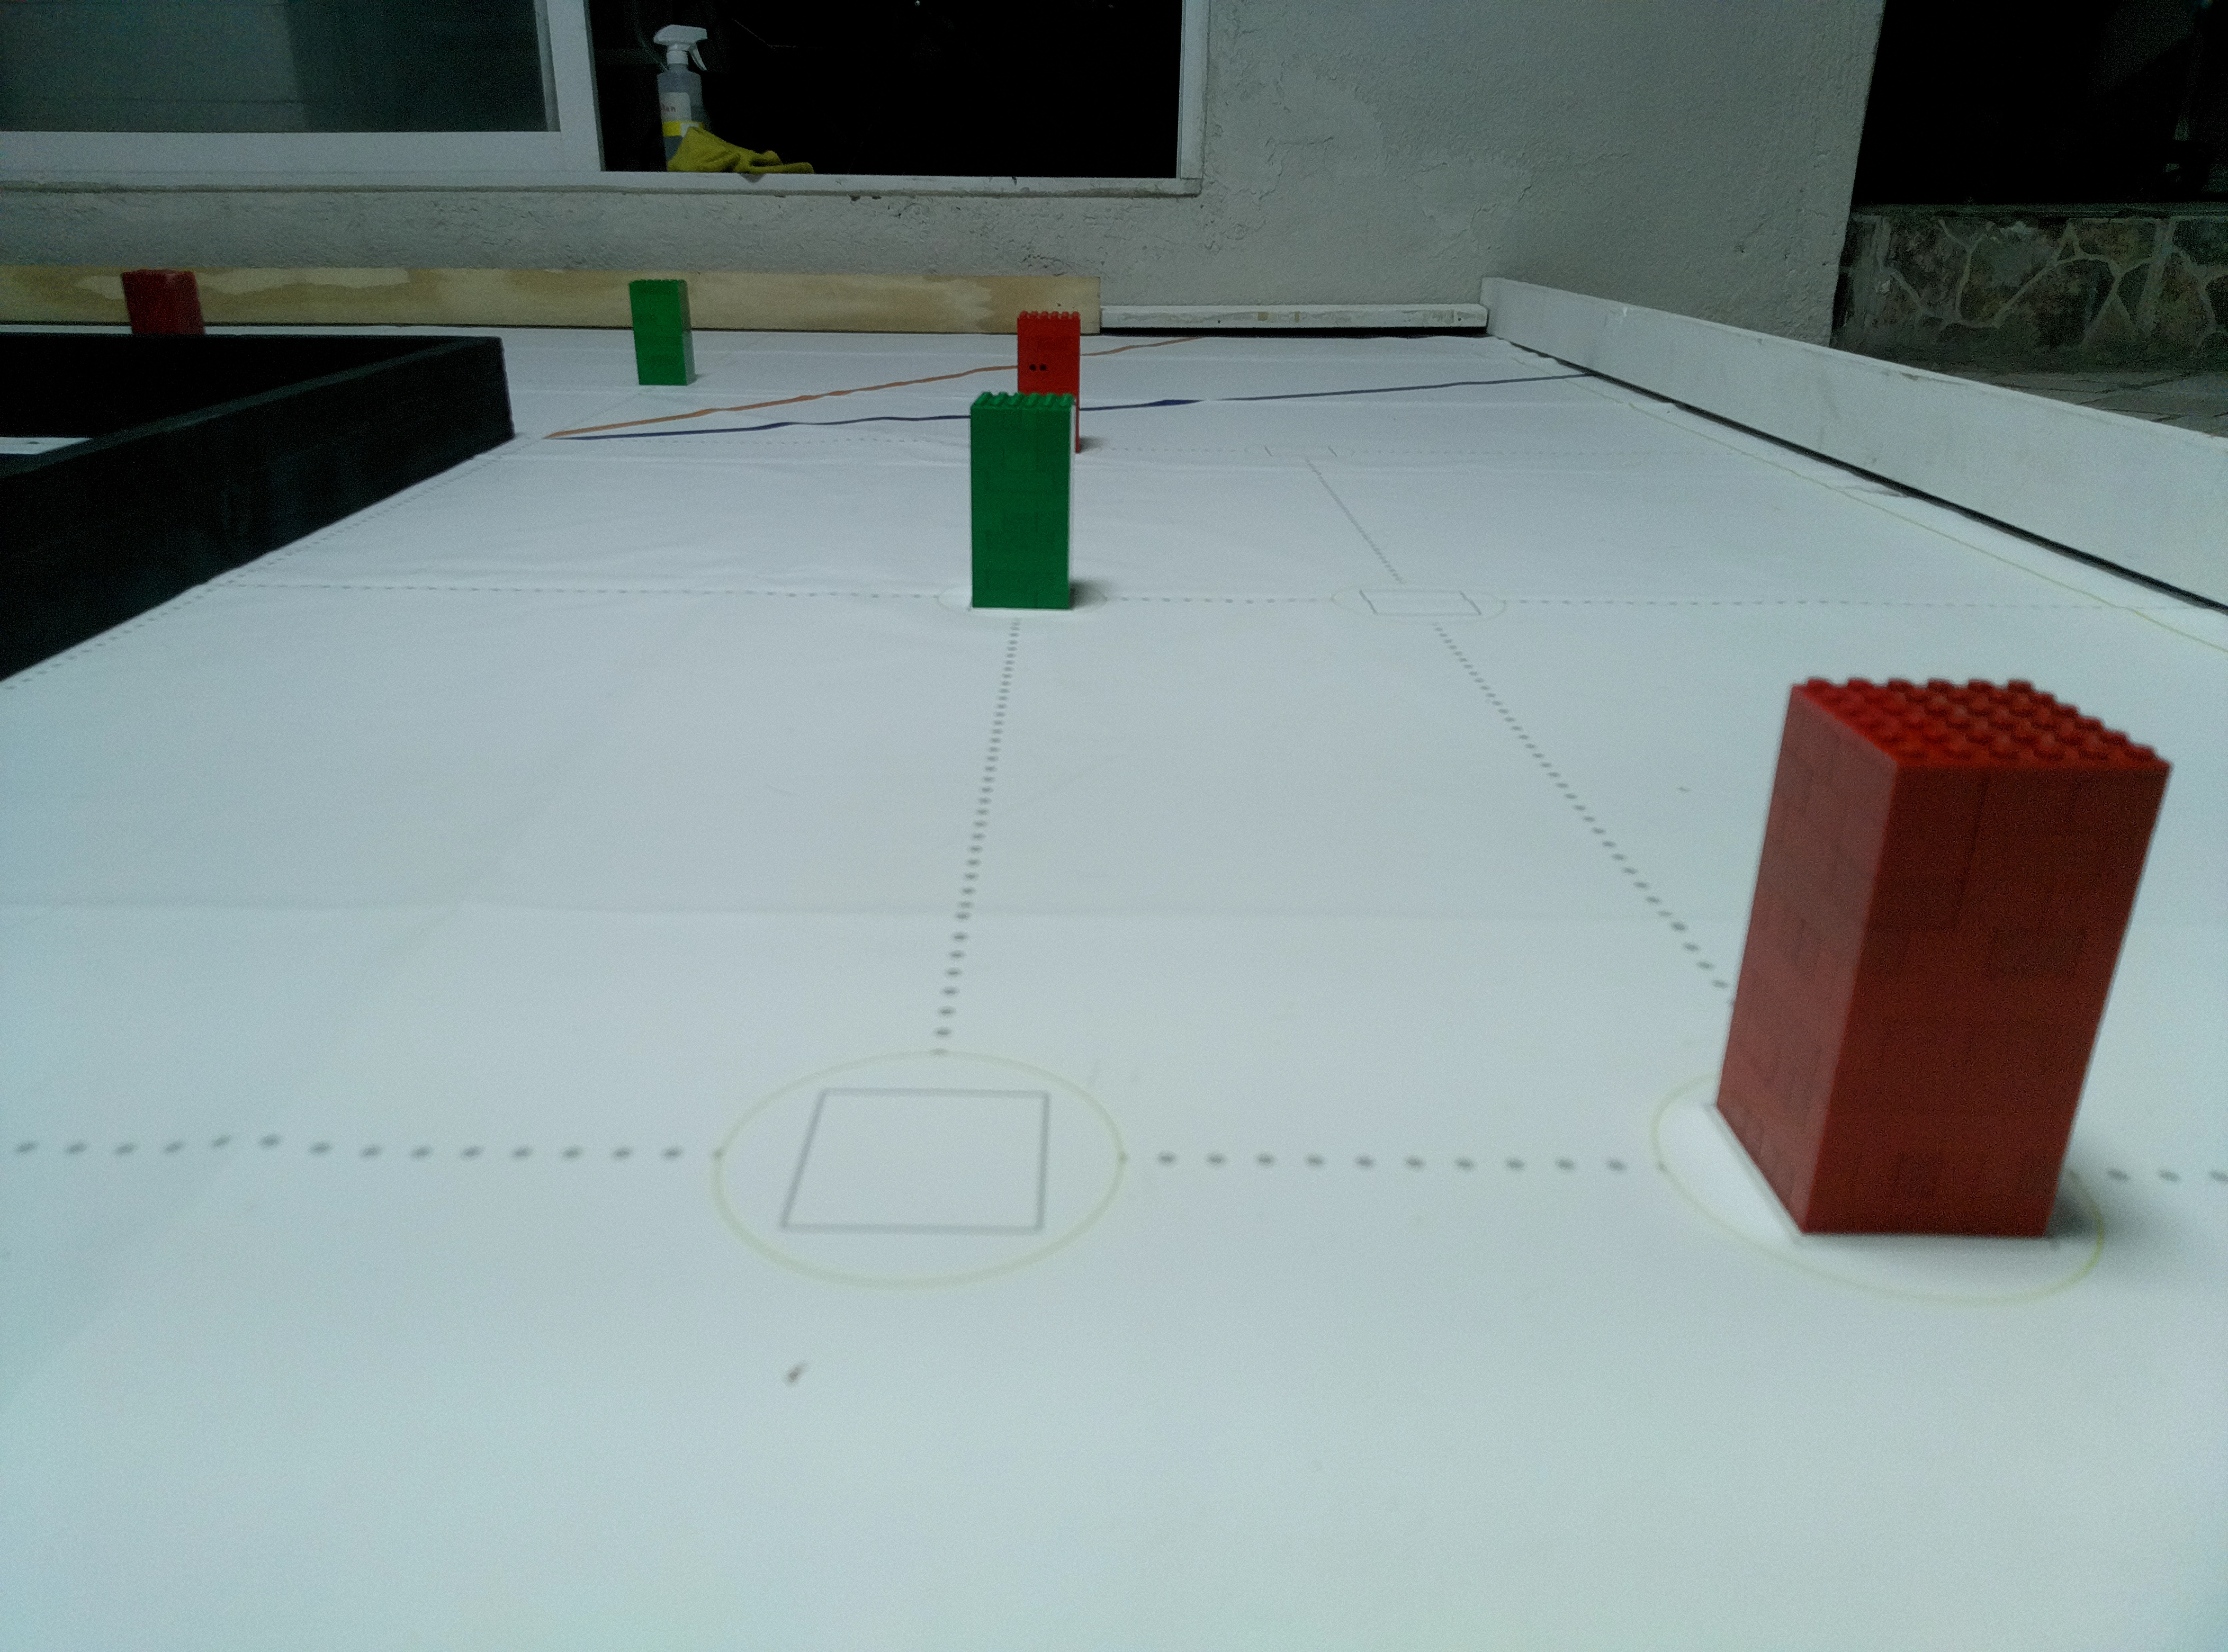greenbox: (968, 388, 1080, 614), (627, 277, 698, 388)
redbox: (1695, 672, 2173, 1254), (1014, 308, 1084, 457), (118, 267, 208, 334)
